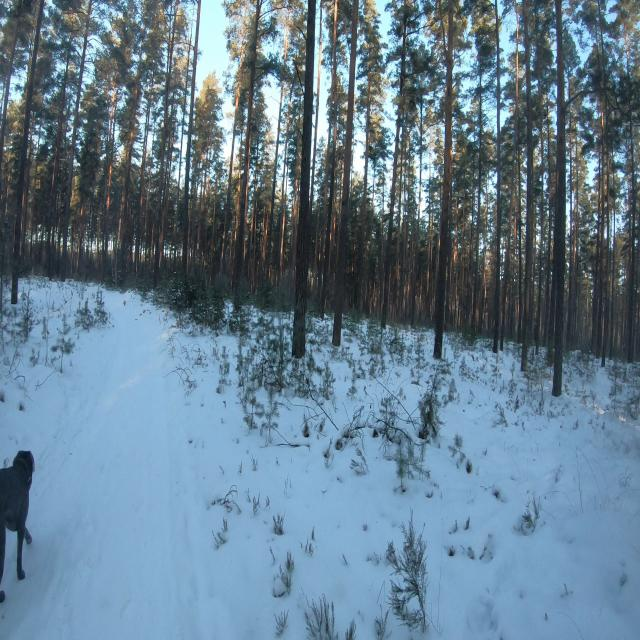bush: (389, 511, 428, 632), (160, 271, 224, 328), (418, 371, 440, 441), (75, 300, 96, 330)
trees: (381, 0, 418, 328), (11, 0, 44, 304), (59, 0, 93, 281), (354, 0, 384, 311), (232, 0, 263, 294), (332, 0, 358, 346), (292, 0, 315, 358), (471, 0, 493, 329), (434, 0, 454, 359), (45, 31, 73, 277), (154, 0, 178, 287), (220, 39, 246, 270), (320, 0, 338, 317), (267, 12, 289, 269), (552, 0, 566, 396), (182, 0, 201, 273), (0, 0, 24, 204), (521, 0, 534, 371), (118, 48, 142, 248), (596, 99, 608, 366), (278, 84, 293, 279), (134, 96, 150, 275), (493, 0, 501, 353), (568, 105, 578, 347), (627, 106, 636, 363), (311, 6, 322, 212), (177, 40, 191, 200), (509, 36, 519, 260), (102, 120, 114, 267), (538, 72, 544, 314), (395, 128, 404, 286), (23, 117, 35, 225), (334, 162, 342, 280), (469, 183, 475, 325), (75, 204, 86, 274), (610, 172, 618, 257), (85, 202, 95, 258), (418, 97, 422, 229), (606, 150, 611, 251), (459, 202, 465, 274), (404, 173, 410, 241), (607, 252, 613, 305), (608, 306, 613, 357), (538, 306, 548, 329), (512, 287, 520, 314), (516, 315, 520, 342), (336, 141, 341, 160), (612, 271, 617, 287), (149, 72, 153, 91), (21, 228, 24, 250), (404, 245, 408, 260), (404, 261, 408, 273), (405, 160, 409, 171), (460, 275, 463, 284), (612, 288, 614, 295)
